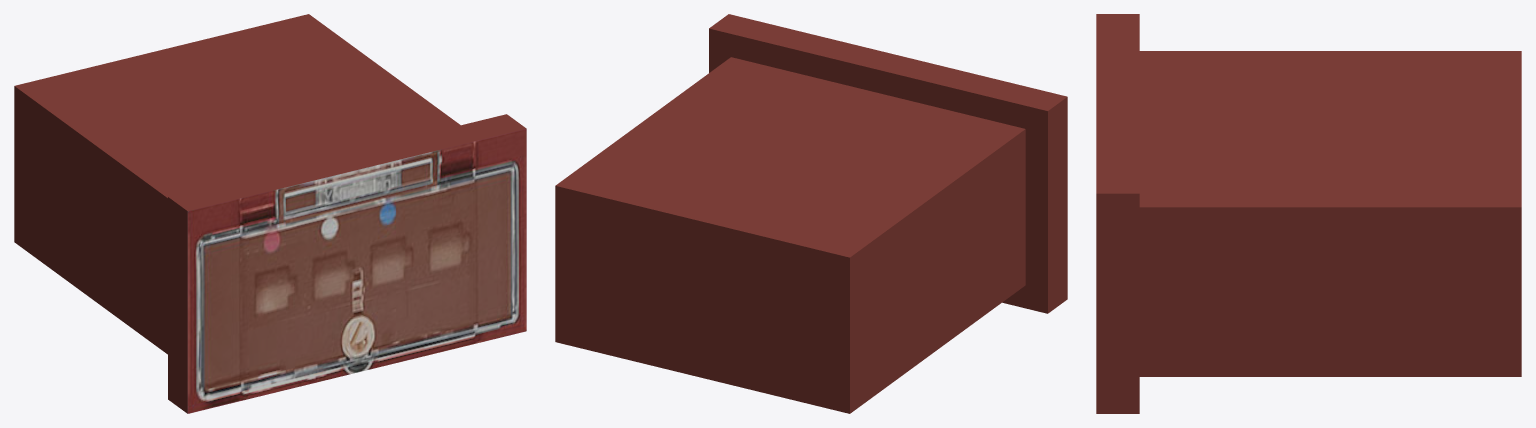
Rendered from PTT.gltf.
3 views of the same model, side by side, from view 1: azimuth 30°, elevation 25°; view 2: azimuth 150°, elevation 25°; view 3: azimuth 270°, elevation 25° (orthographic). The views are drawn at different scales.
Visible parts, largest first — view 1: PTT_035, PTT_034; view 2: PTT_035; view 3: PTT_035.
Boxes of the visible parts, box(x1,y1,x2,y2) form: PTT_035: box(14, 14, 526, 413); PTT_034: box(187, 128, 526, 413); PTT_035: box(555, 14, 1067, 413); PTT_035: box(1096, 14, 1521, 413).
Bounding box in the file's own units: 0.07 × 0.04 × 0.07.
2 materials, 1 textured.
